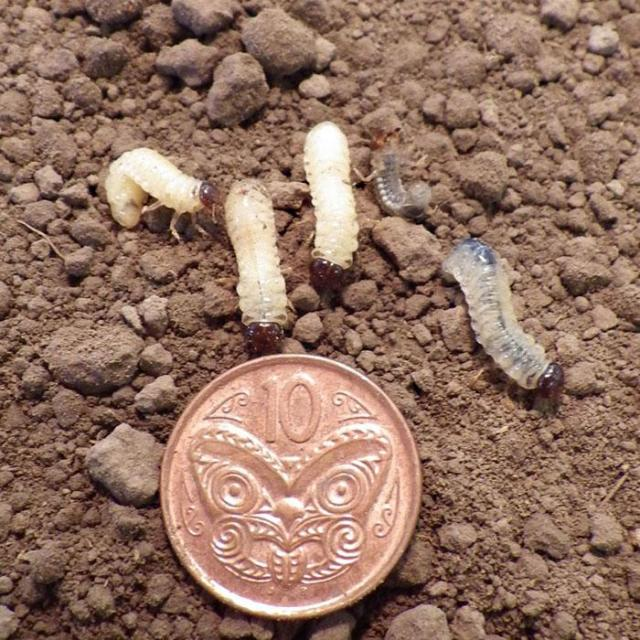Grub-Adult-: (433, 230, 573, 406), (207, 174, 298, 356), (305, 99, 377, 294), (98, 140, 216, 247), (365, 139, 432, 245)
